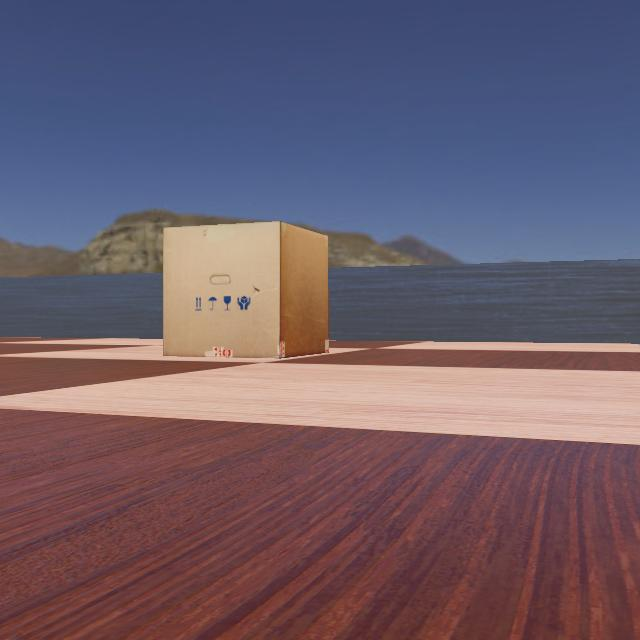cardboard-box: (151, 220, 329, 358)
